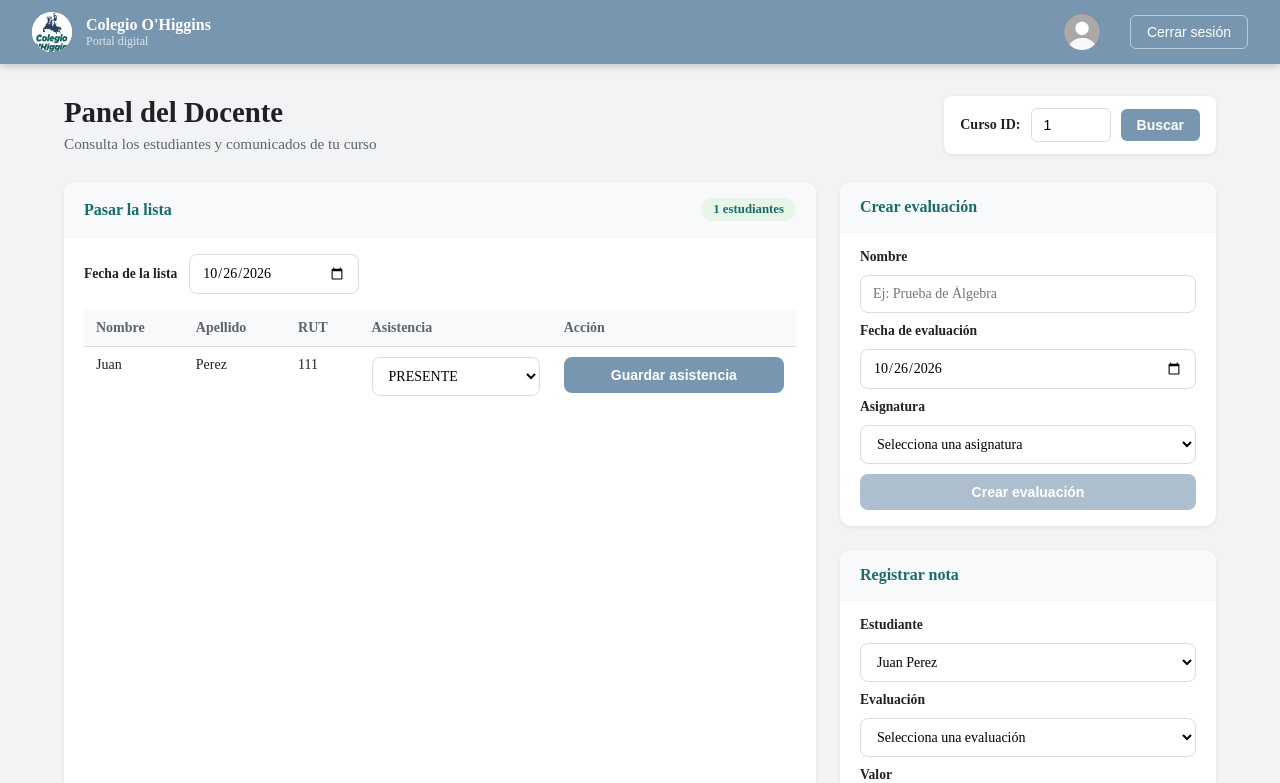
Test: DashboardDocente Component › debe registrar una asistencia desde la tabla del curso
Select "AUSENTE" in the dropdown named "Asistencia de Juan Perez" at (456, 376), box [372, 357, 540, 396]
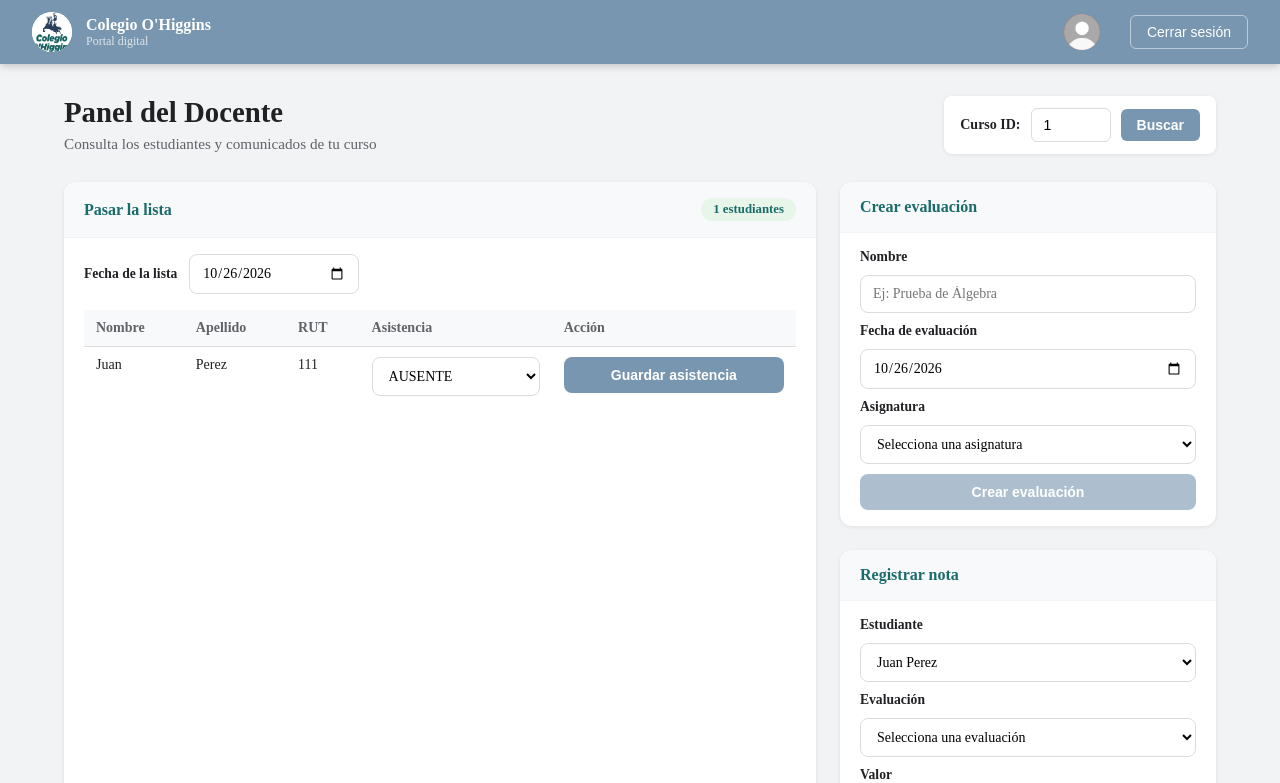
Click the button "Guardar asistencia" at (674, 375), box [564, 357, 784, 393]
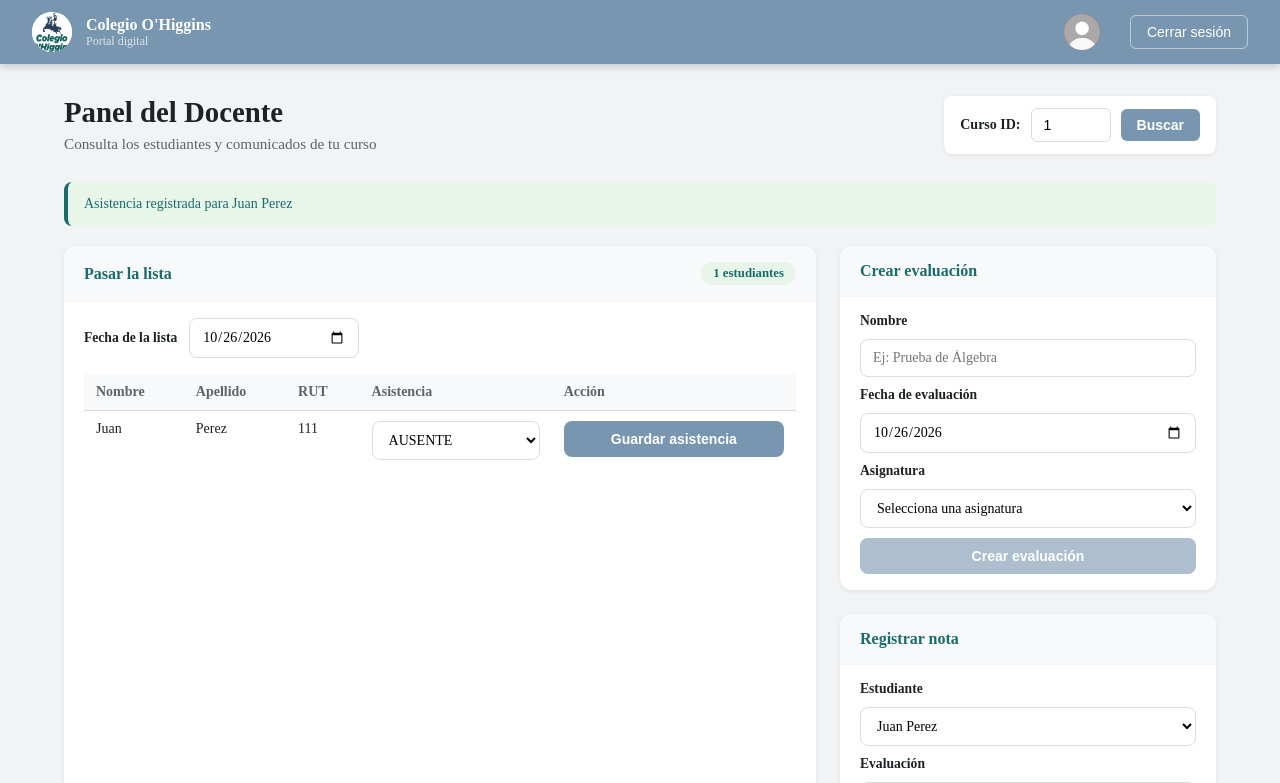
expect the text "Asistencia registrada para Juan Perez" is shown: met, box [64, 182, 1216, 226]
